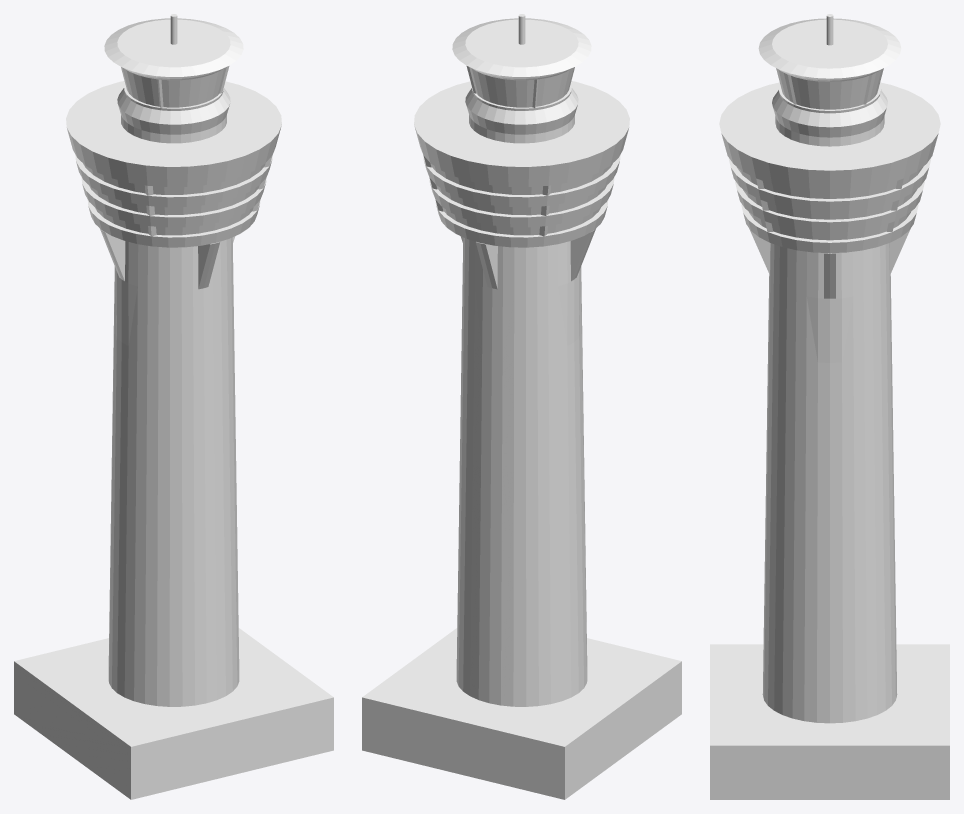
The model's file is controlTower.obj.
3 views of the same model, side by side, from view 1: azimuth 30°, elevation 25°; view 2: azimuth 150°, elevation 25°; view 3: azimuth 270°, elevation 25° (orthographic). The views are drawn at different scales.
Parts seen in each view (by area): view 1: 円柱, Cube, 円柱.004, 円柱.002; view 2: 円柱, Cube, 円柱.004, 円柱.002; view 3: 円柱, Cube, 円柱.004, 円柱.002.
Part boxes in pixels (box(x1,y1,x2,y2)): 円柱: box(100, 229, 239, 706); Cube: box(14, 628, 333, 799); 円柱.004: box(66, 81, 281, 247); 円柱.002: box(104, 18, 243, 143); 円柱: box(456, 229, 595, 706); Cube: box(362, 628, 681, 799); 円柱.004: box(414, 81, 629, 247); 円柱.002: box(452, 18, 591, 143); 円柱: box(749, 228, 910, 723); Cube: box(710, 644, 949, 799); 円柱.004: box(719, 82, 940, 253); 円柱.002: box(758, 18, 901, 146).
Size of the model in its own units: 4 by 13.51 by 4.
Materials: 5 (5 with a texture image).
